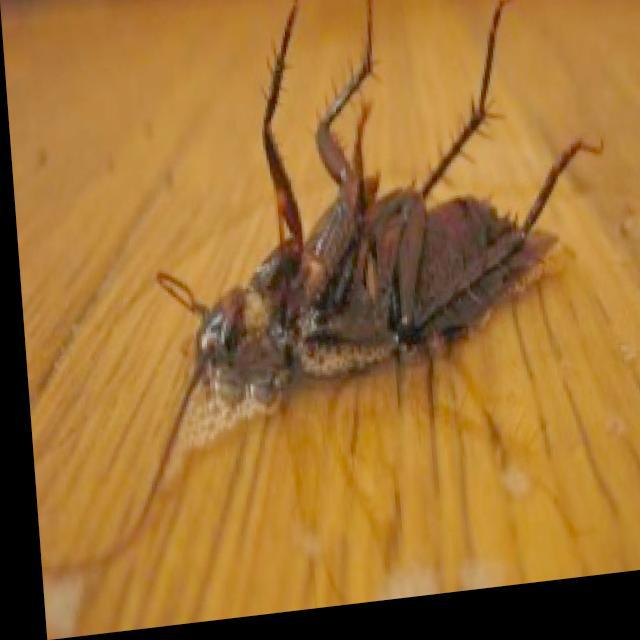cockroach: (151, 65, 624, 459)
